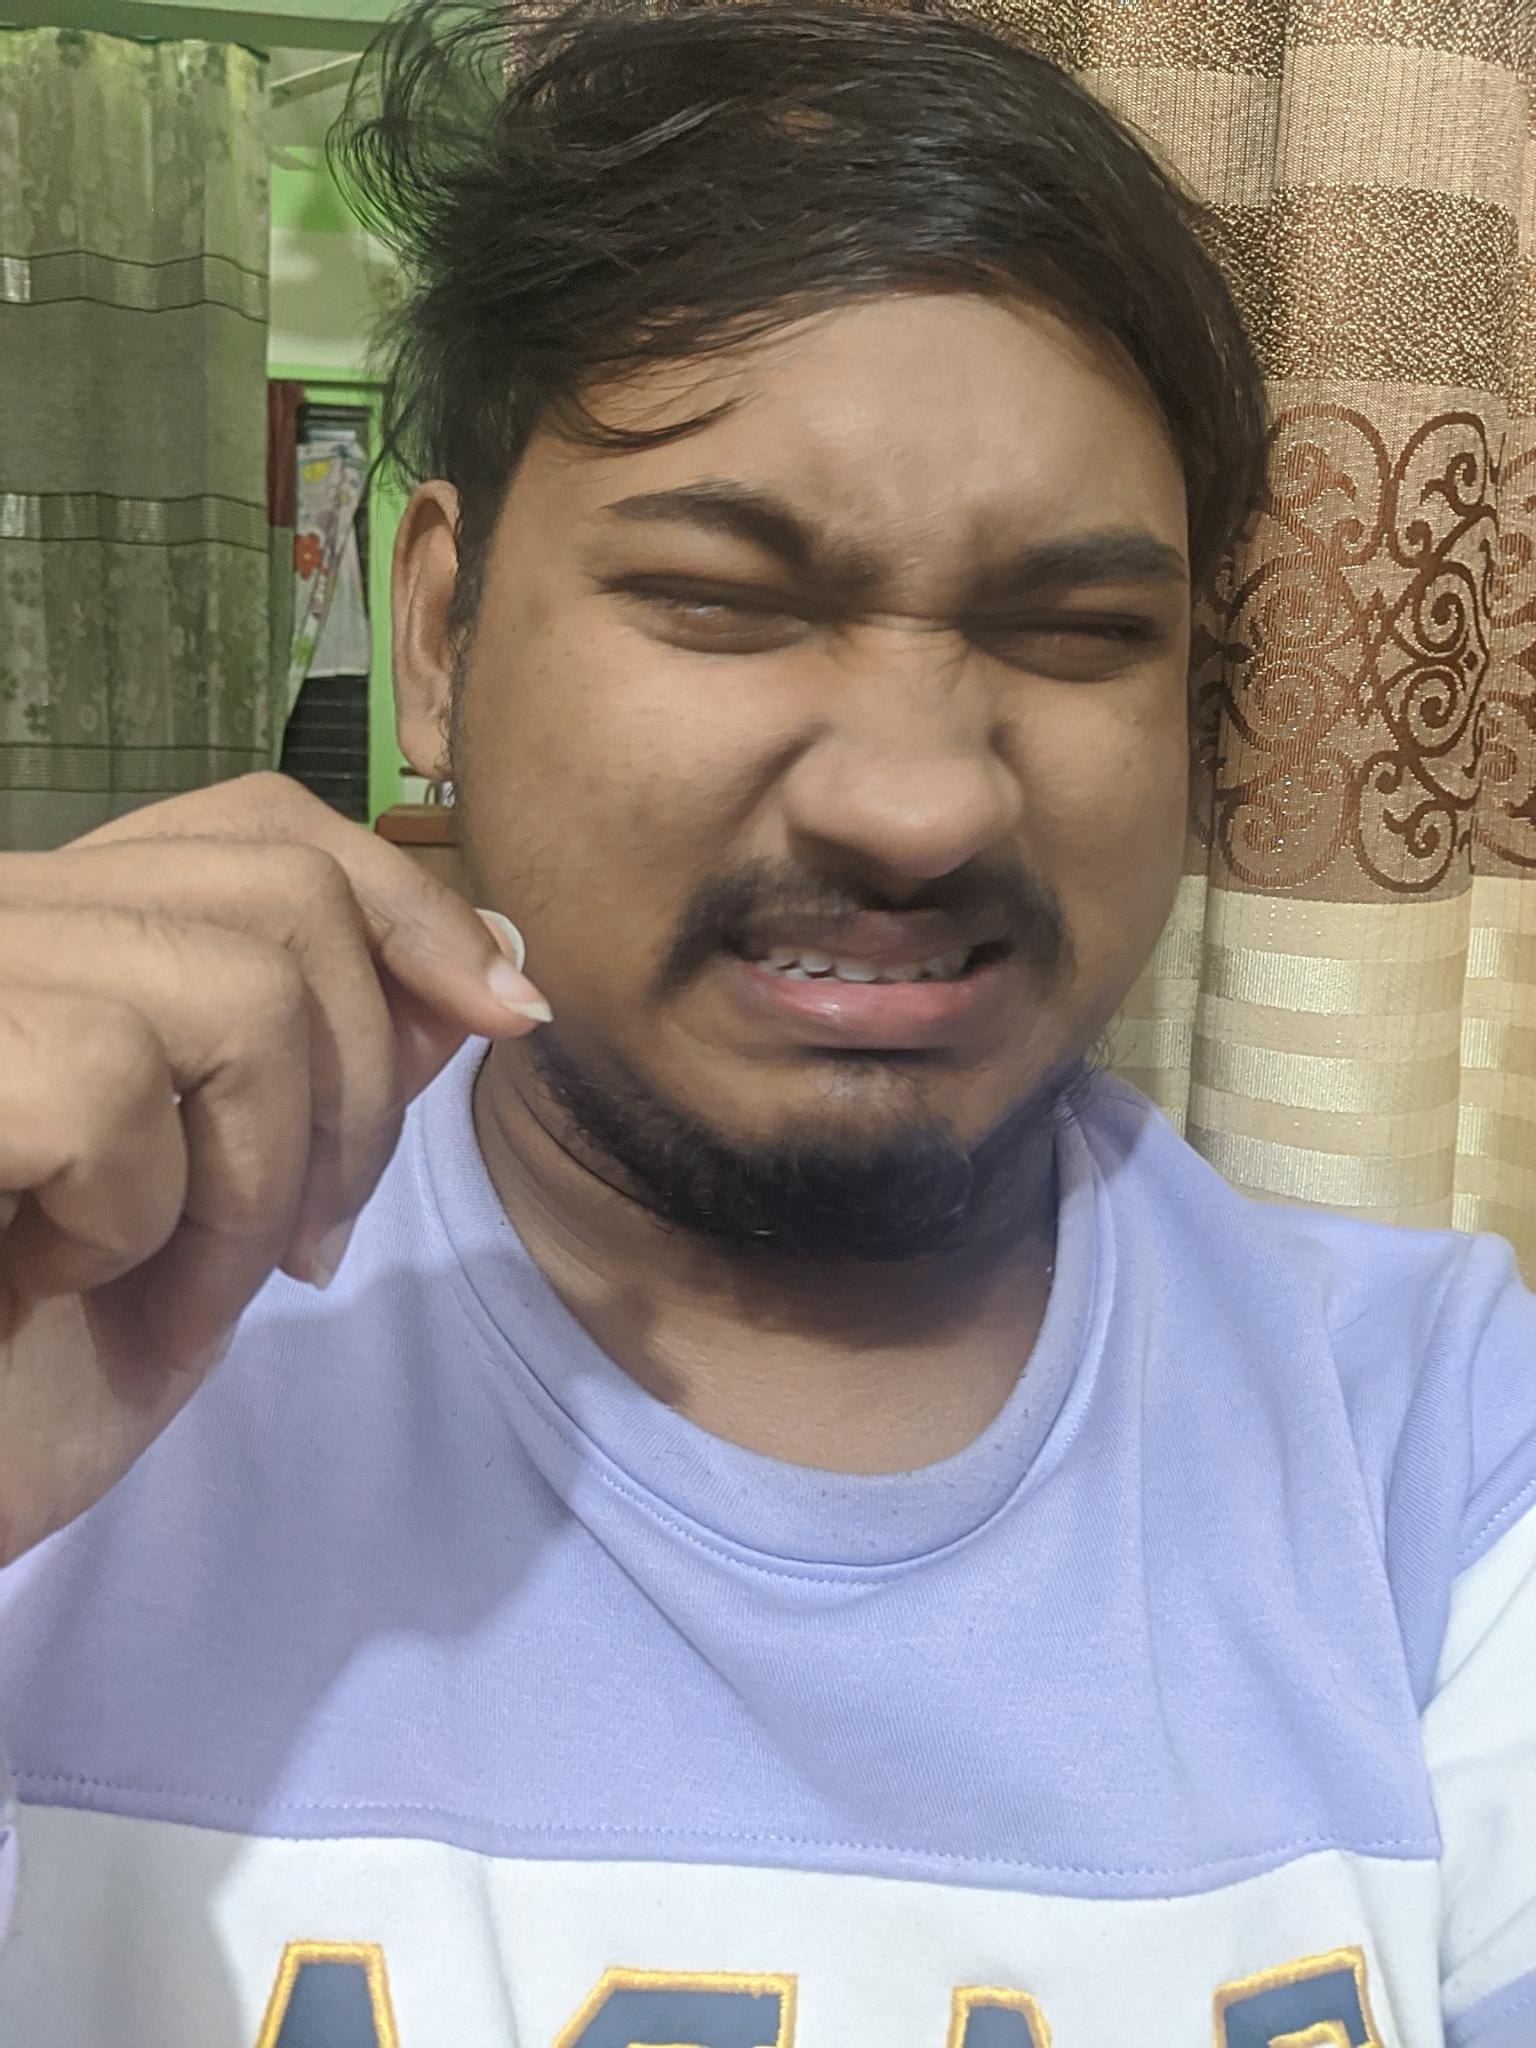Disgust: (573, 389, 1244, 1184)
